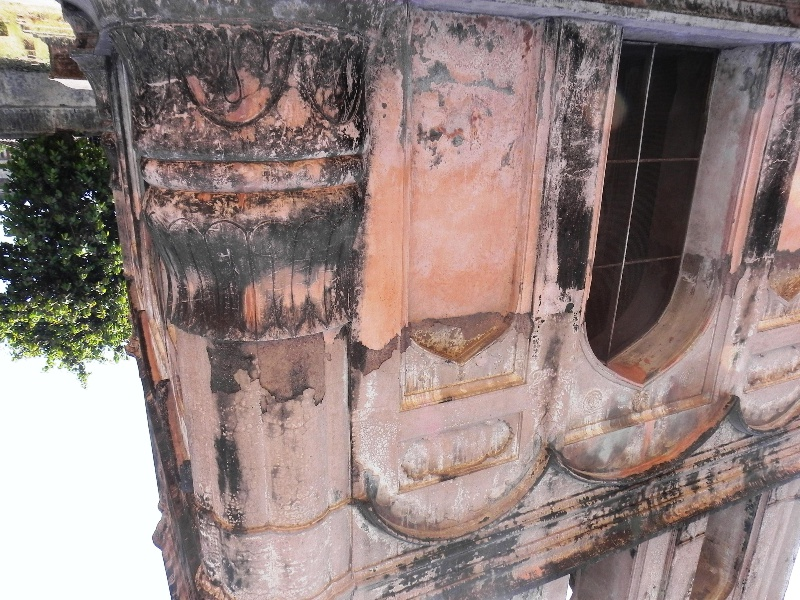Spalling: (250, 333, 334, 407), (349, 330, 420, 383), (499, 298, 539, 349)
